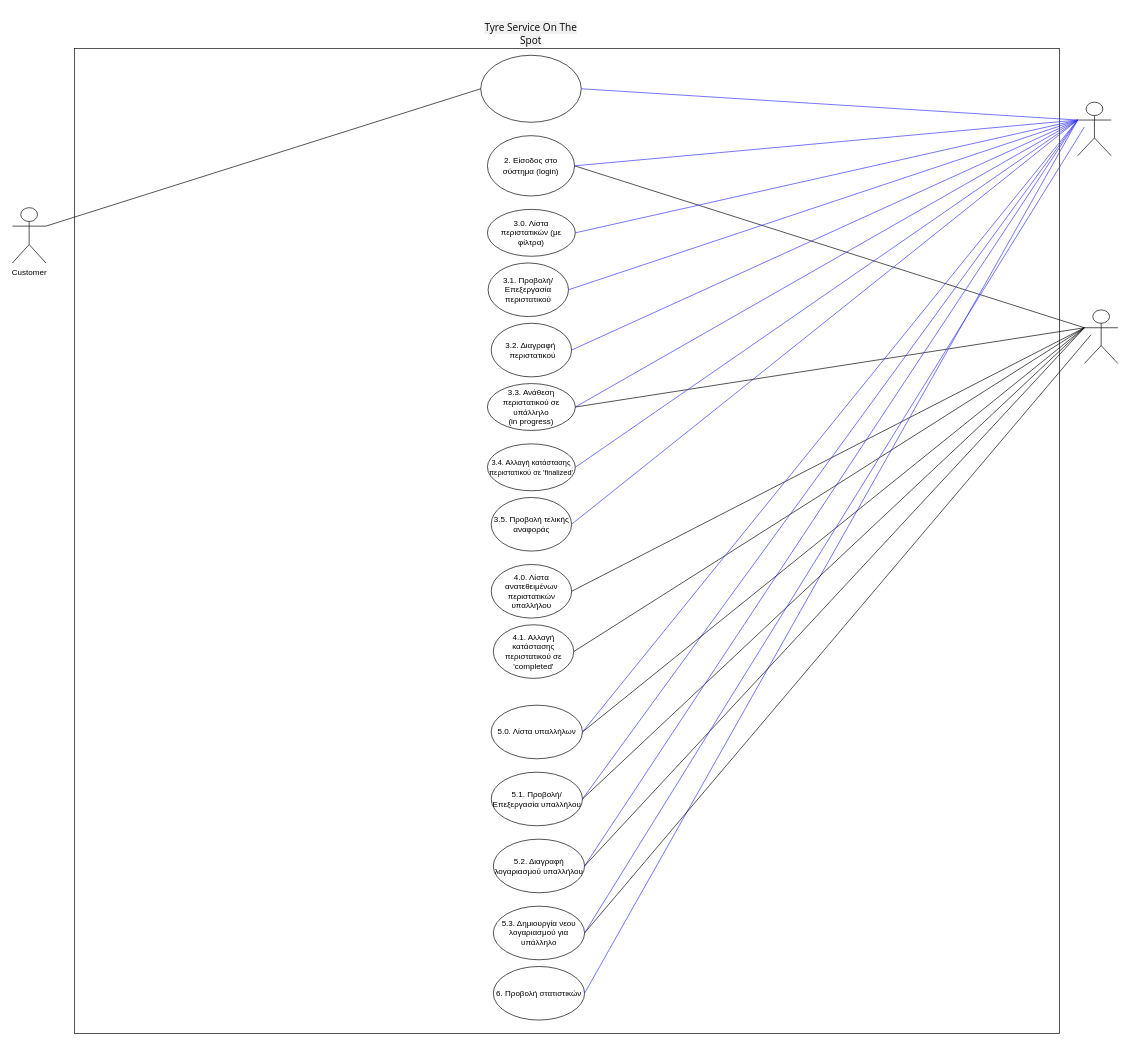
This 1132x1045 diagram has some shape labels left out. The shapes that lost their labels are listed below. From the top down, each one's centre as x and y in pixels, then its label:
(x=530, y=88): 1. Κλείσιμο ραντεβού για επιδιόρθωση, αλλαγή ελαστικών και αλλαγή μπαταρίας
(x=1094, y=129): Admin
(x=1101, y=336): Employees
